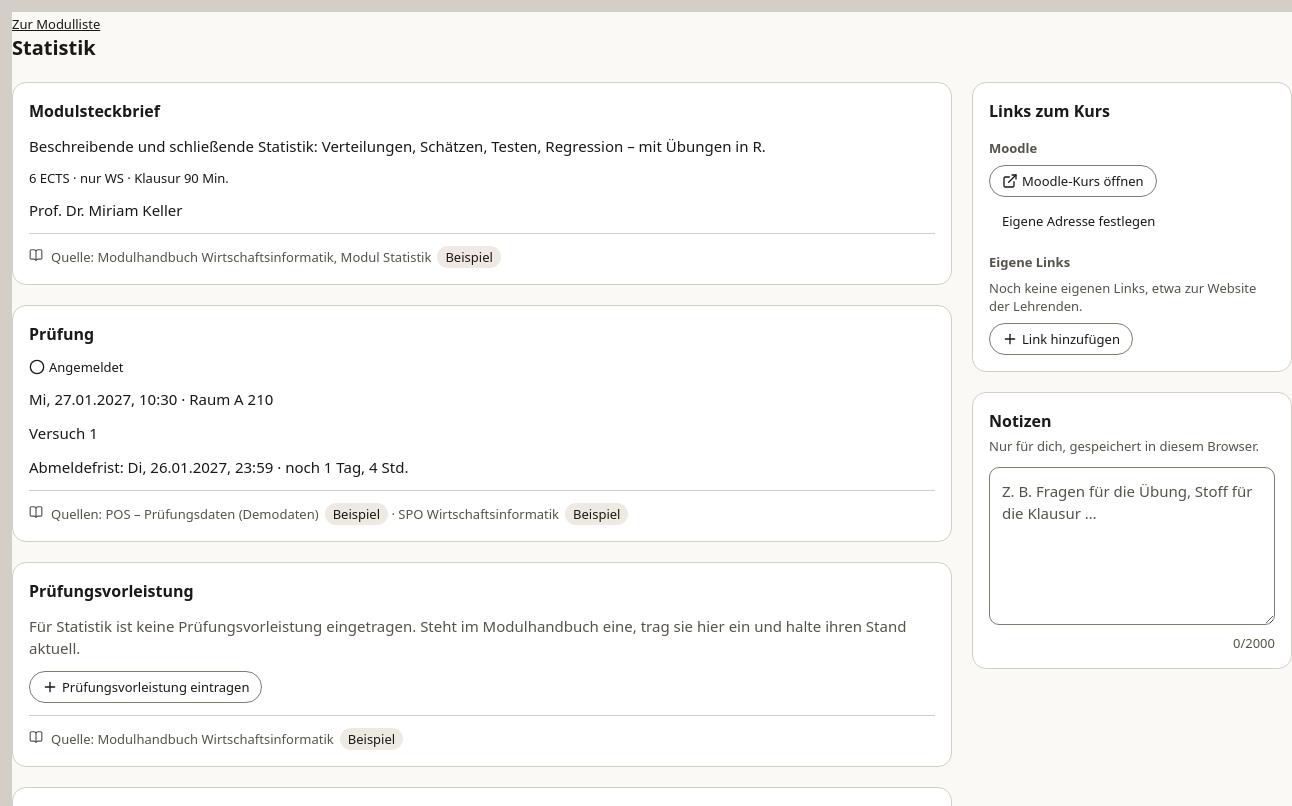
Scenario: Moduldetail: Kurs-Links und Notizen (P5-12) › saves notes per module while typing
In the text box named "Notizen zum Modul": (1132,546) [989,467,1275,625], type "Probeklausur rechnen"
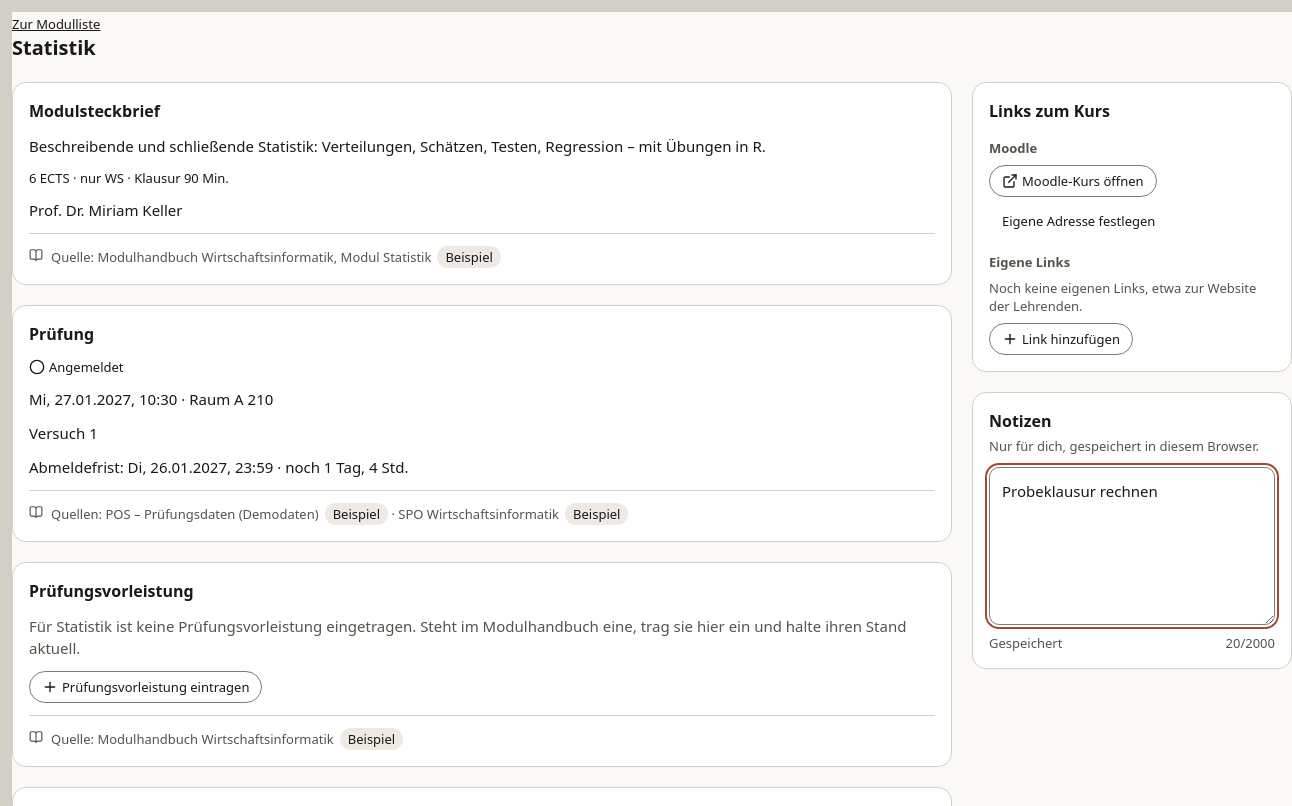
Now the text "Gespeichert" is shown, box [989,634,1062,652]
